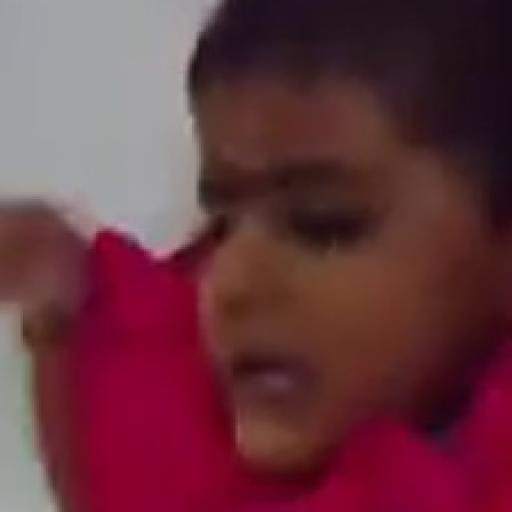Autism: (177, 59, 498, 473)
